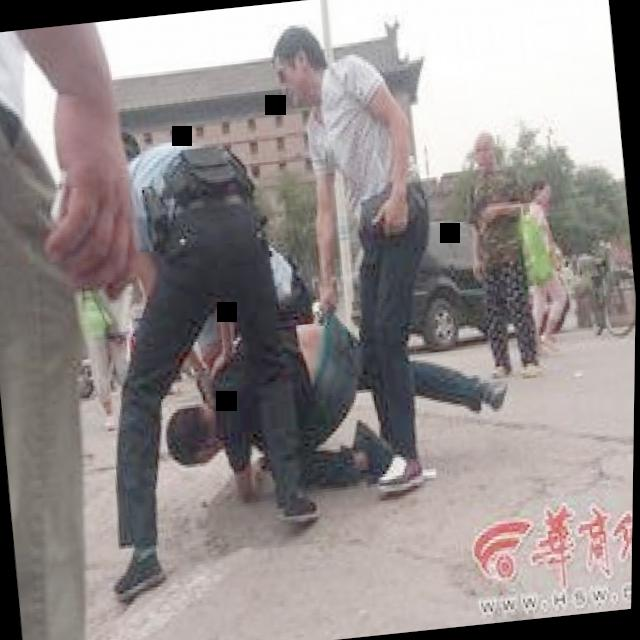Fall-Detected: (152, 261, 502, 510)
